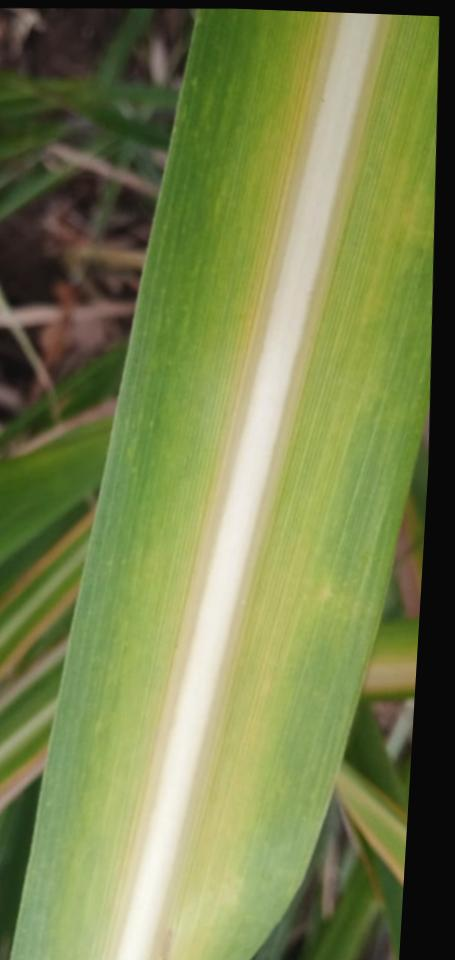Healthy: (11, 9, 438, 960)
